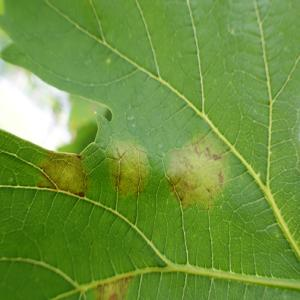Folha: (0, 0, 300, 299)
Fungo: (163, 135, 229, 211), (39, 144, 94, 201), (107, 138, 152, 196), (90, 263, 132, 300)
